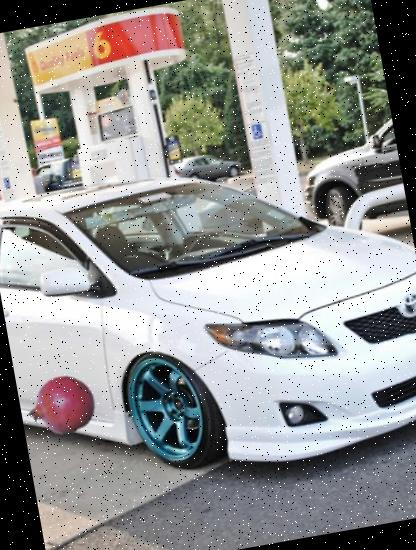Pomegranate: (21, 366, 101, 446)
